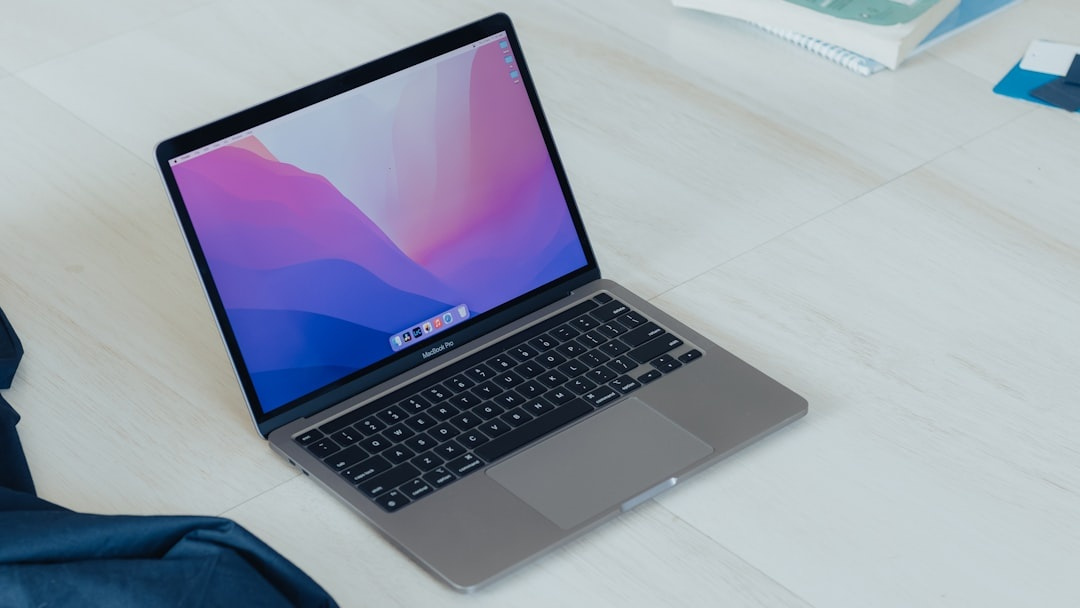laptop: (133, 8, 829, 598)
